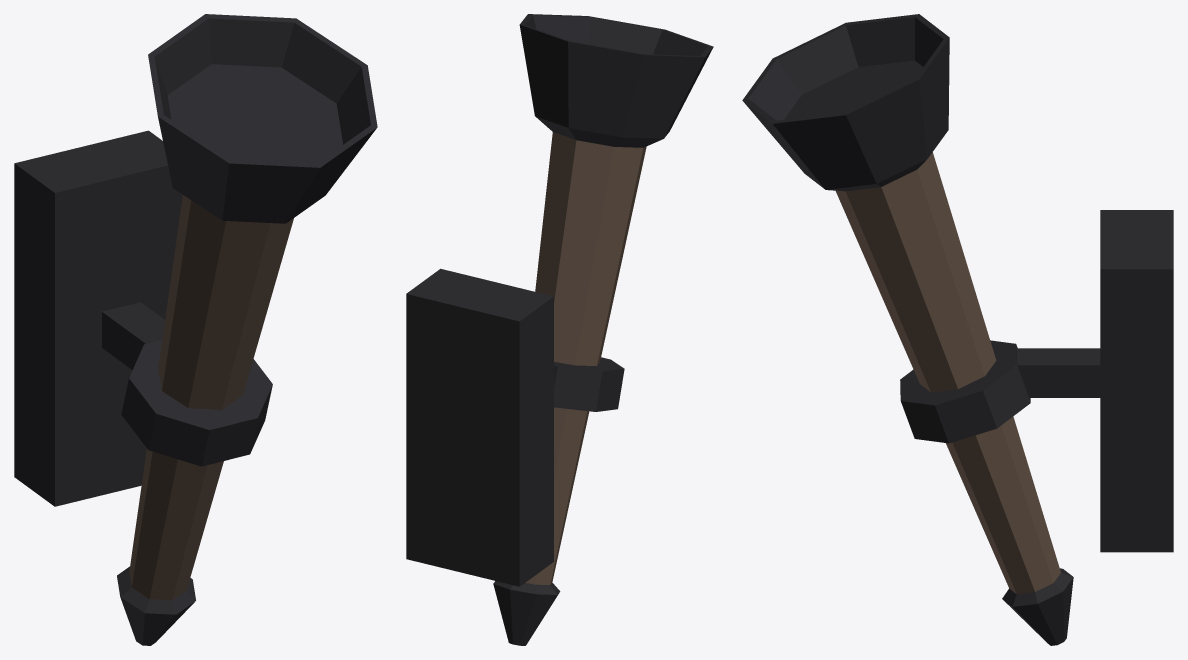
The model's file is WallTorch.fbx.
The picture shows the model from 3 angles, left to right: view 1: azimuth 30°, elevation 25°; view 2: azimuth 150°, elevation 25°; view 3: azimuth 270°, elevation 25°; orthographic projection. The views are drawn at different scales.
Parts seen in each view (by area): view 1: Cylinder; view 2: Cylinder; view 3: Cylinder.
Part boxes in pixels (<box>): Cylinder: <box>14,14,377,645</box>; Cylinder: <box>406,14,713,645</box>; Cylinder: <box>742,14,1173,645</box>.
Bounding box in the file's own units: 11.68 × 35.74 × 23.04.
